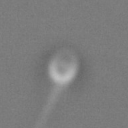normal: (32, 86, 60, 128)
